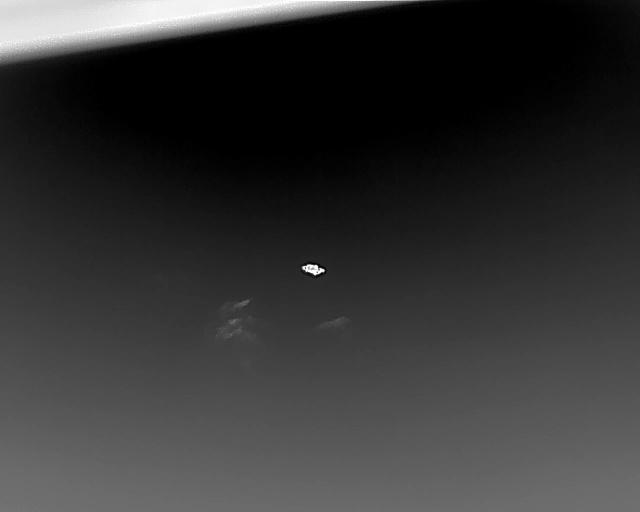fpv-drone: (301, 263, 325, 277)
